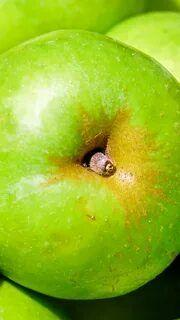Apple: (1, 32, 180, 298)
